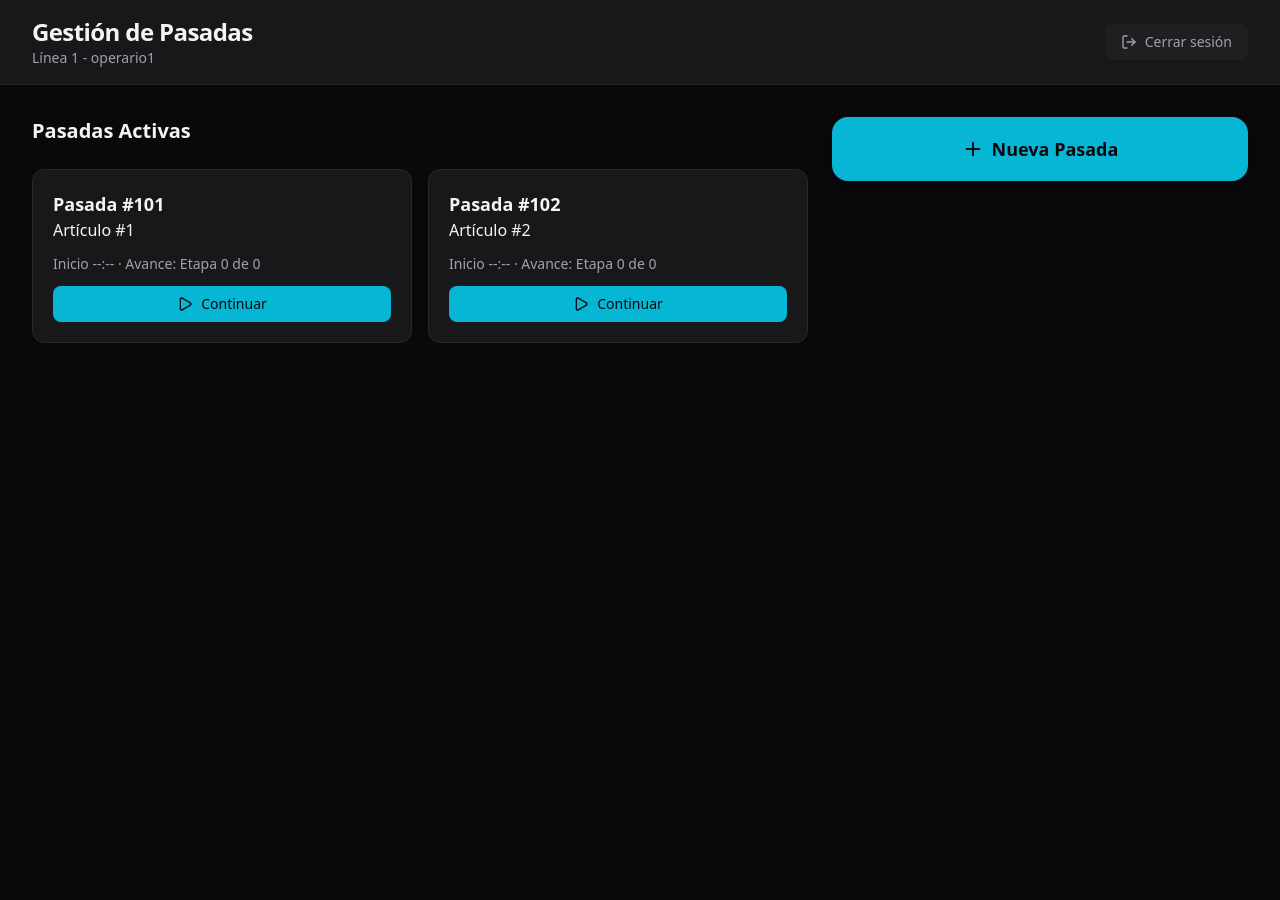
Test: GestionPasadasPage › muestra diálogo de confirmación al hacer click en Cerrar sesión cuando hay activeLineaId (Task 3.7)
Step 1. Click the button "Cerrar sesión" → (1176, 42), box 1105,24 -> 1248,60
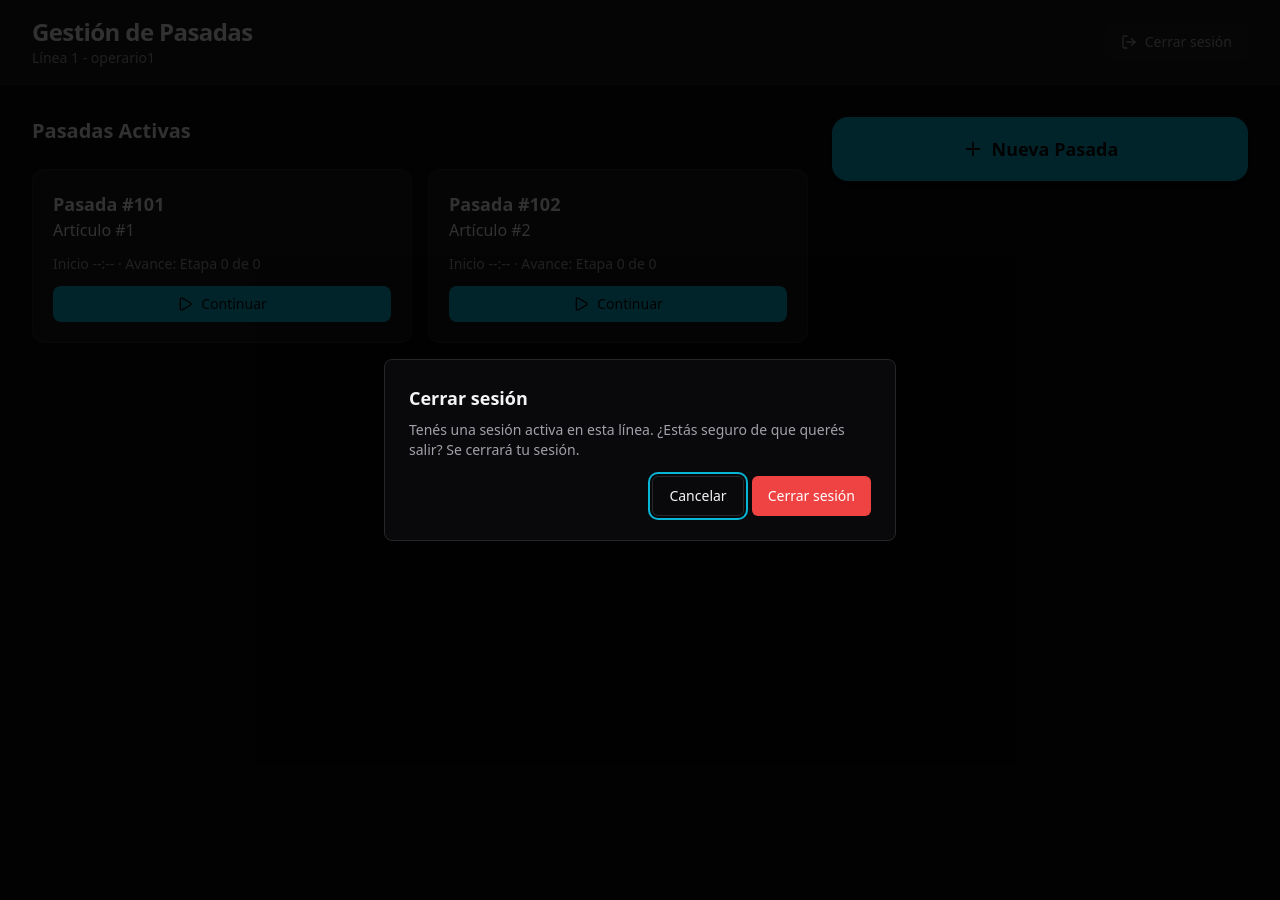
Expected: the text "Tenés una sesión activa en esta línea" is shown, 409,420 -> 845,459
